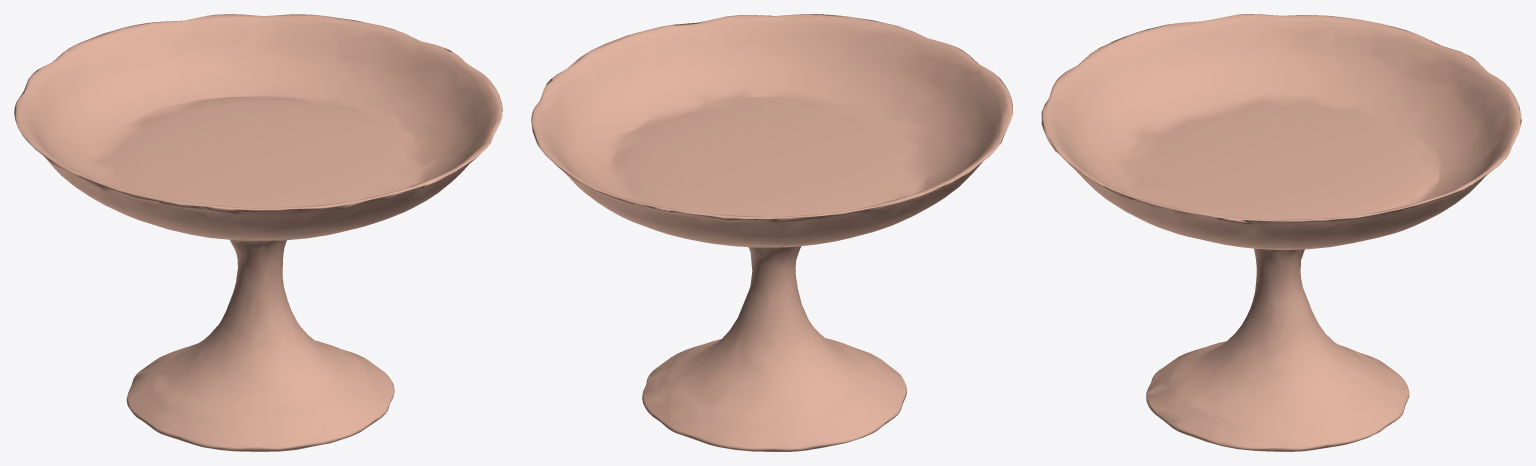
File: wc-sevres-pedestal-bowl.lod1.glb
3 renders of one model, left to right at view 1: azimuth 30°, elevation 25°; view 2: azimuth 150°, elevation 25°; view 3: azimuth 270°, elevation 25°, orthographic.
Parts seen in each view (by area): view 1: wc-sevres-pedestal-bowl; view 2: wc-sevres-pedestal-bowl; view 3: wc-sevres-pedestal-bowl.
Boxes of the visible parts, <box> form: wc-sevres-pedestal-bowl: <box>14,14,502,451</box>; wc-sevres-pedestal-bowl: <box>531,14,1012,451</box>; wc-sevres-pedestal-bowl: <box>1041,14,1521,451</box>.
Bounding box in the file's own units: 0.2666 × 0.18 × 0.269.
